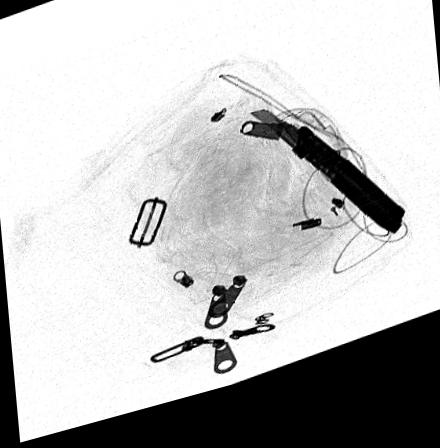Knife: (248, 122, 405, 256)
